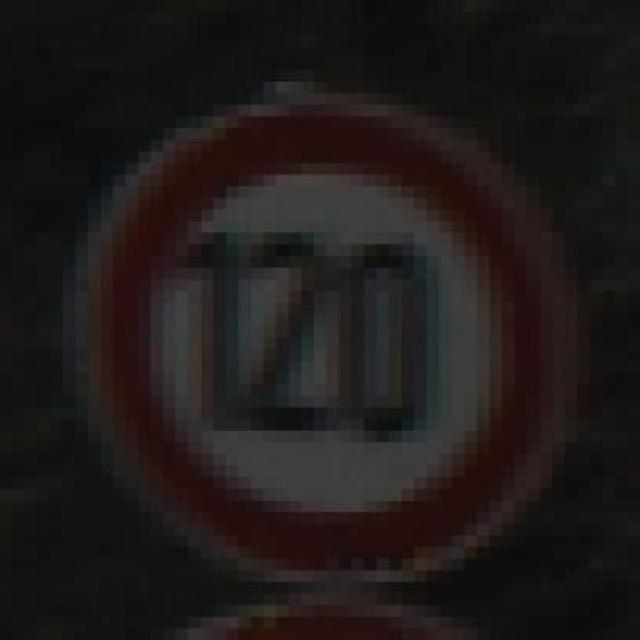forb_speed_over_120: (92, 103, 555, 574)
